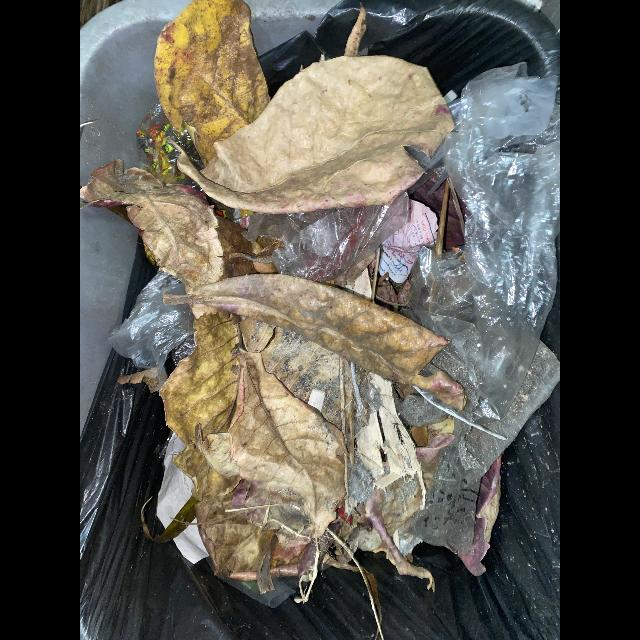biowaste: (174, 55, 456, 214), (163, 274, 467, 412), (160, 313, 307, 581), (228, 347, 350, 546), (154, 0, 270, 167), (81, 161, 223, 288)
paper: (381, 199, 438, 253)
plastic: (398, 62, 560, 424)
